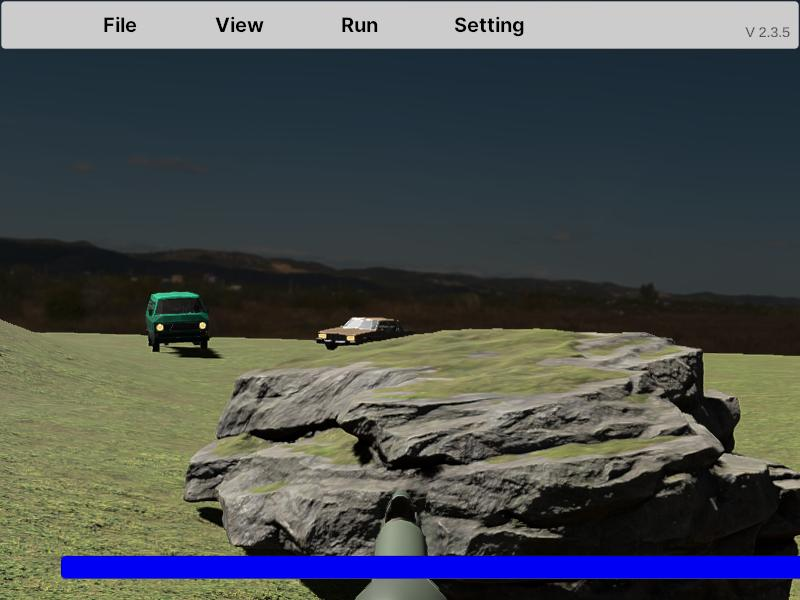car: (146, 291, 210, 354)
